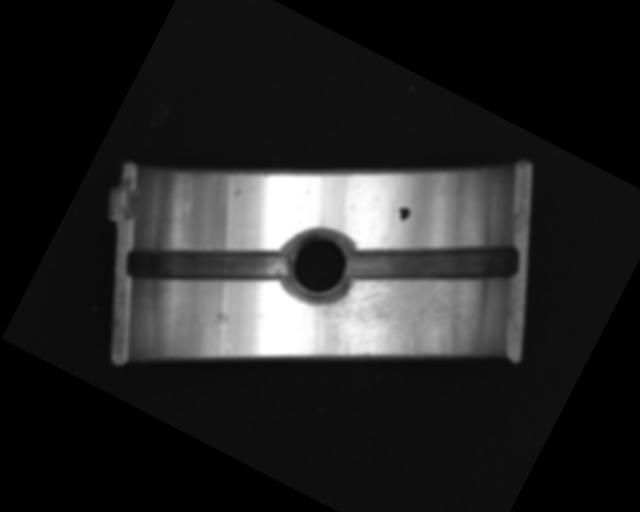blot: (393, 203, 413, 225)
bruise: (211, 308, 232, 330), (231, 187, 244, 200)
gap: (344, 184, 525, 342), (119, 192, 293, 340)
hole: (270, 216, 367, 317)
nick: (166, 171, 208, 222)
scratch: (289, 226, 476, 406)
